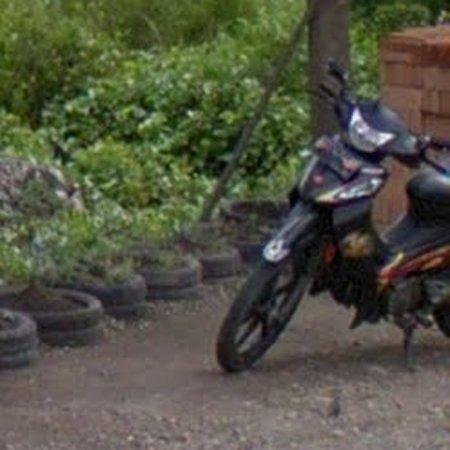motorcycles: (218, 63, 450, 373)
